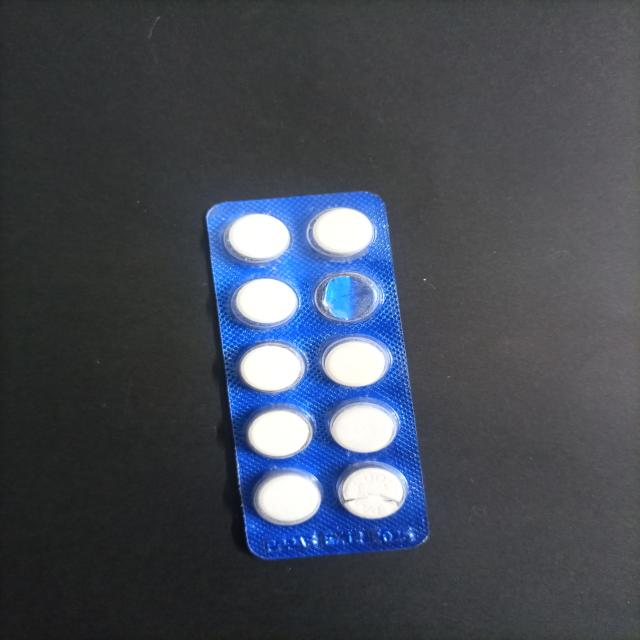defect: (334, 459, 410, 522), (310, 270, 386, 326)
